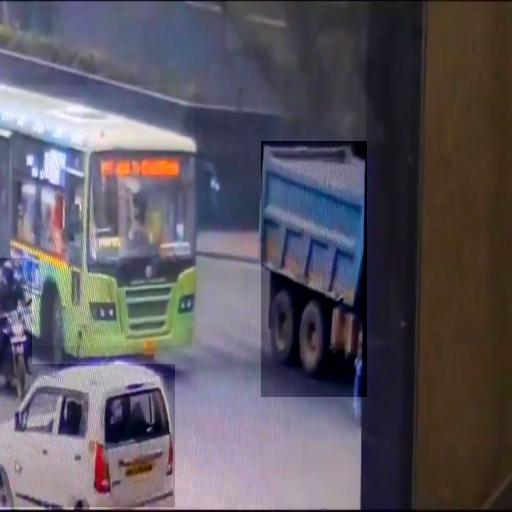小汽车: (0, 85, 194, 346), (261, 141, 367, 397), (0, 364, 175, 507)
自行车: (0, 258, 32, 404)
